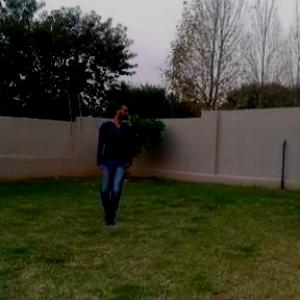follow: (98, 104, 128, 222)
